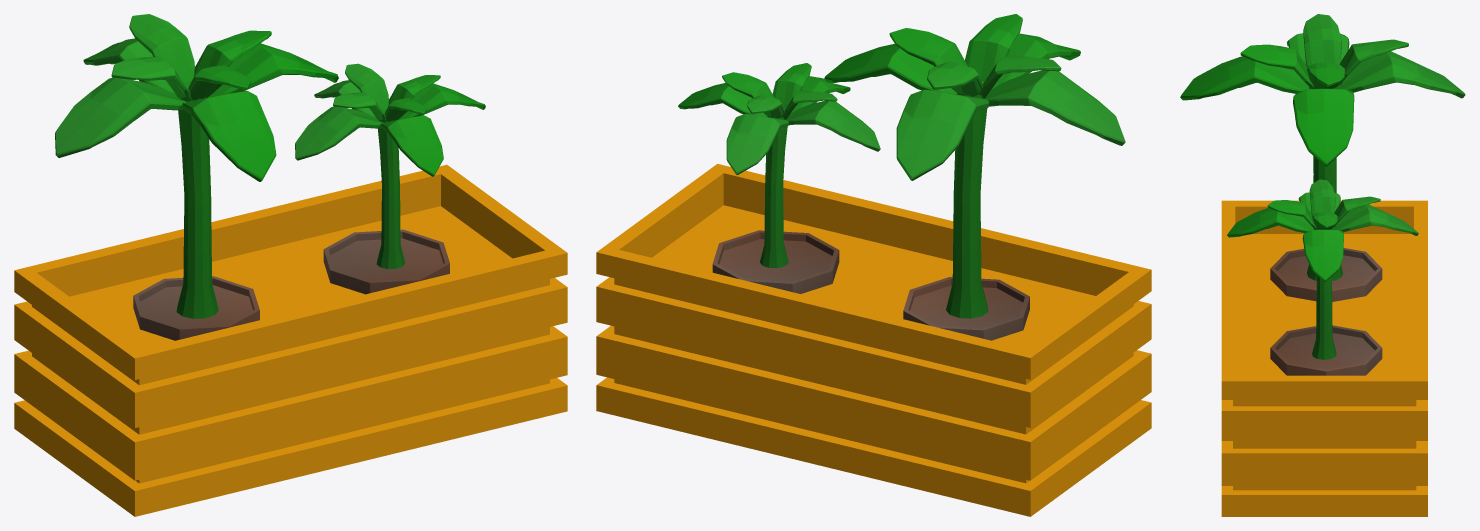
Rendered from saksı.fbx.
3 views of the same model, side by side, from view 1: azimuth 30°, elevation 25°; view 2: azimuth 150°, elevation 25°; view 3: azimuth 270°, elevation 25° (orthographic). The views are drawn at different scales.
Visible parts, largest first — view 1: saksıı; view 2: saksıı; view 3: saksıı.
Boxes of the visible parts, <box> form: saksıı: <box>14,14,567,516</box>; saksıı: <box>596,14,1151,516</box>; saksıı: <box>1180,14,1465,516</box>.
Bounding box in the file's own units: 98.56 × 81.56 × 61.93.
